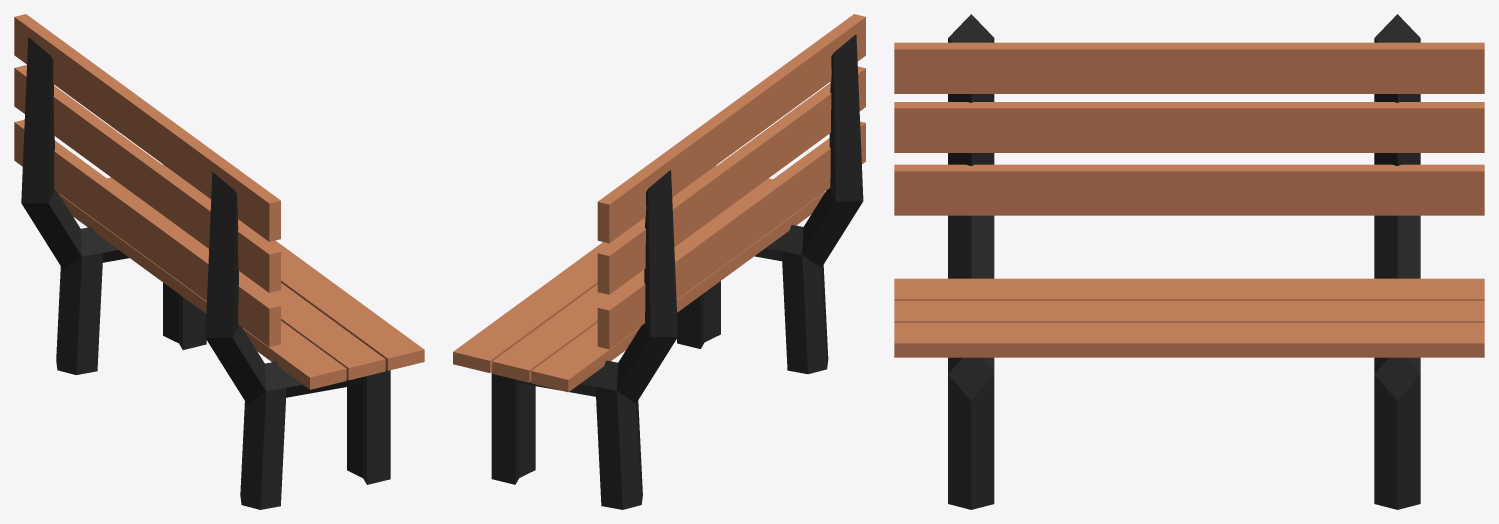
Rendered from park_bench.glb.
The picture shows the model from 3 angles, left to right: view 1: azimuth 30°, elevation 25°; view 2: azimuth 150°, elevation 25°; view 3: azimuth 270°, elevation 25°; orthographic projection. The views are drawn at different scales.
Parts seen in each view (by area): view 1: Cube.003; view 2: Cube.003; view 3: Cube.003.
Part boxes in pixels (x1=…): Cube.003: x1=14, y1=14, x2=424, y2=509; Cube.003: x1=453, y1=14, x2=865, y2=509; Cube.003: x1=894, y1=14, x2=1484, y2=509.
Bounding box in the file's own units: 2.77 × 4.89 × 6.58.
